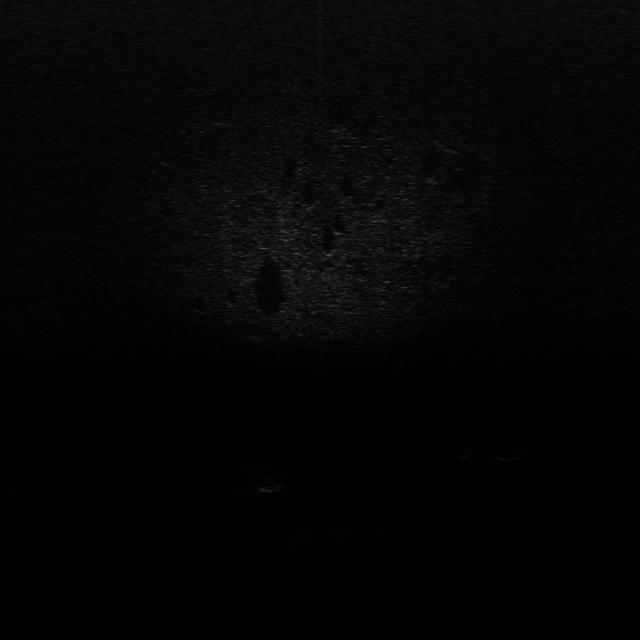ball: (254, 471, 288, 495)
human body: (452, 441, 544, 466)
